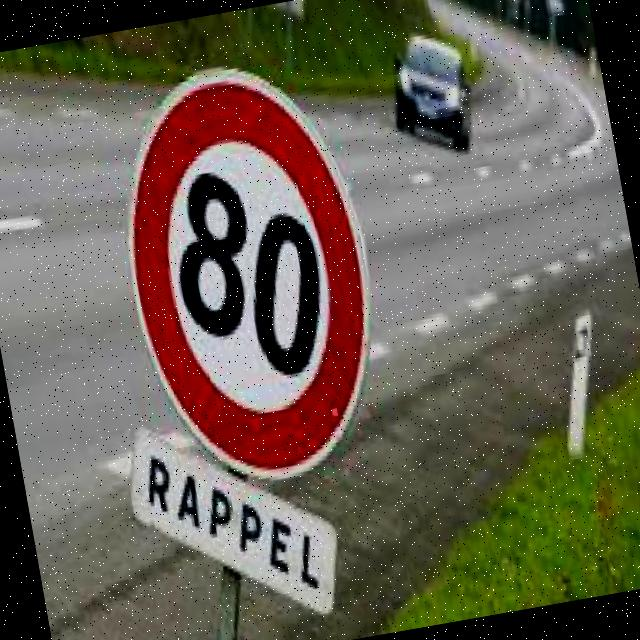Ograniczenie predkosci do 80: (93, 45, 416, 507)
